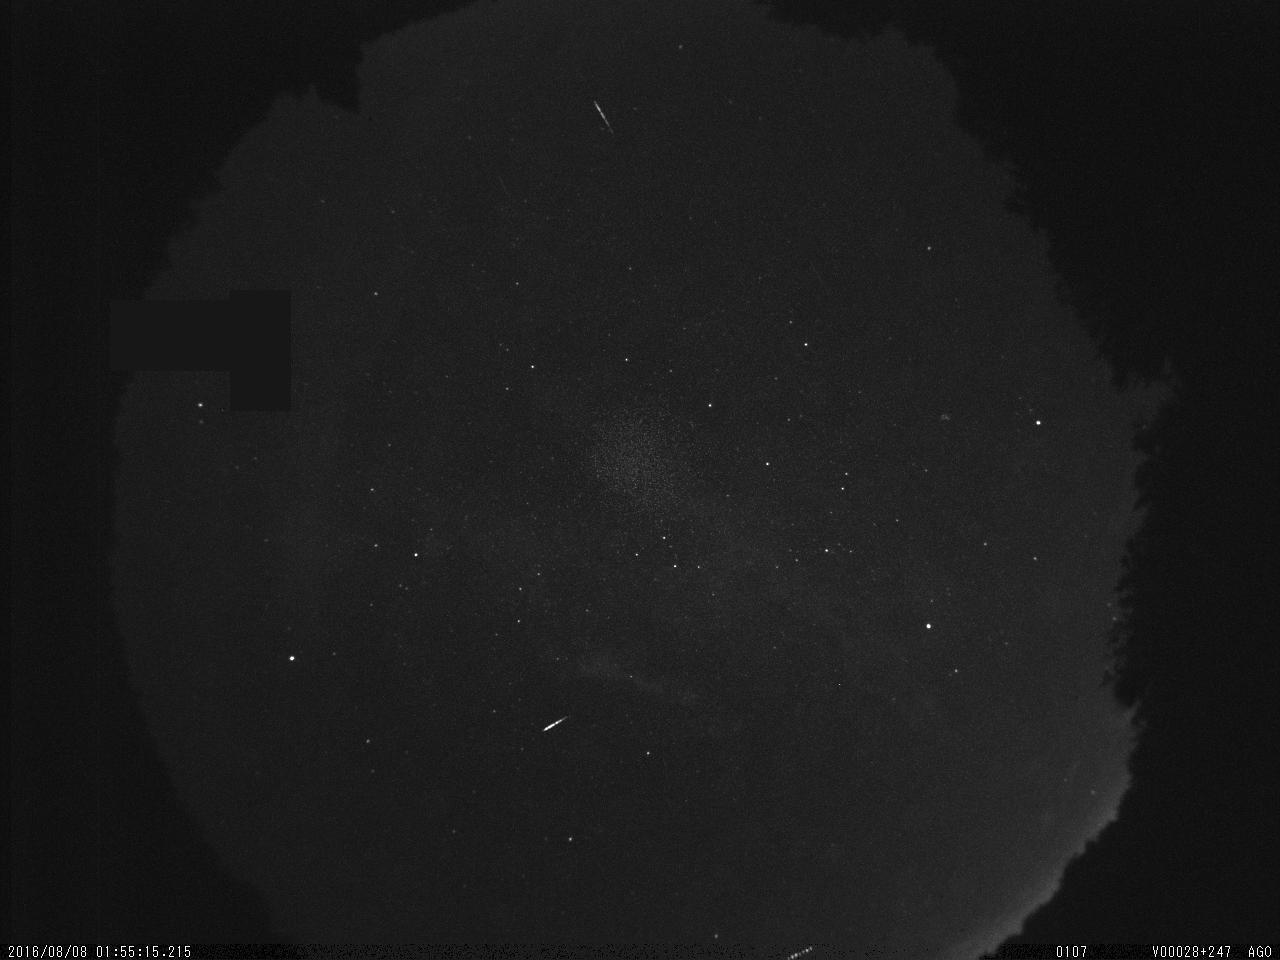meteor: (584, 89, 627, 154), (525, 705, 578, 743)
